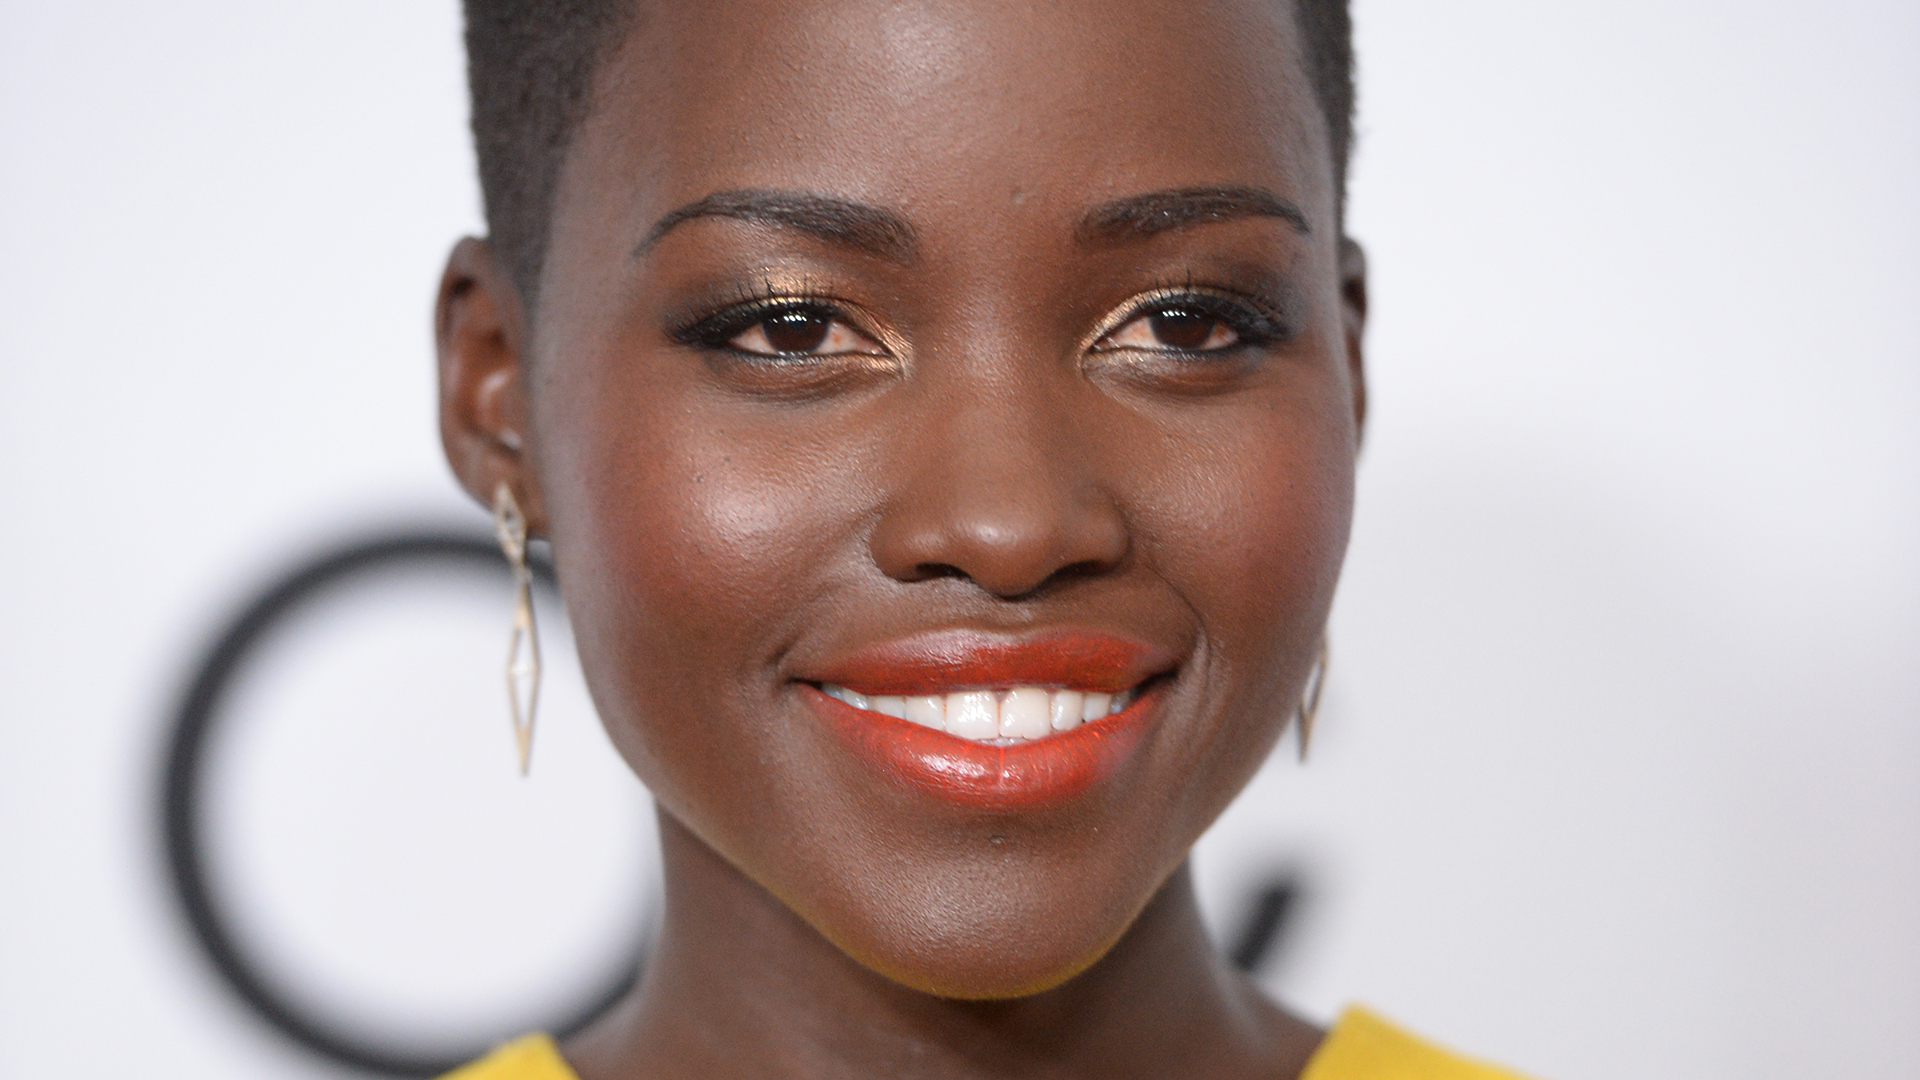human: (222, 5, 1586, 1080)
